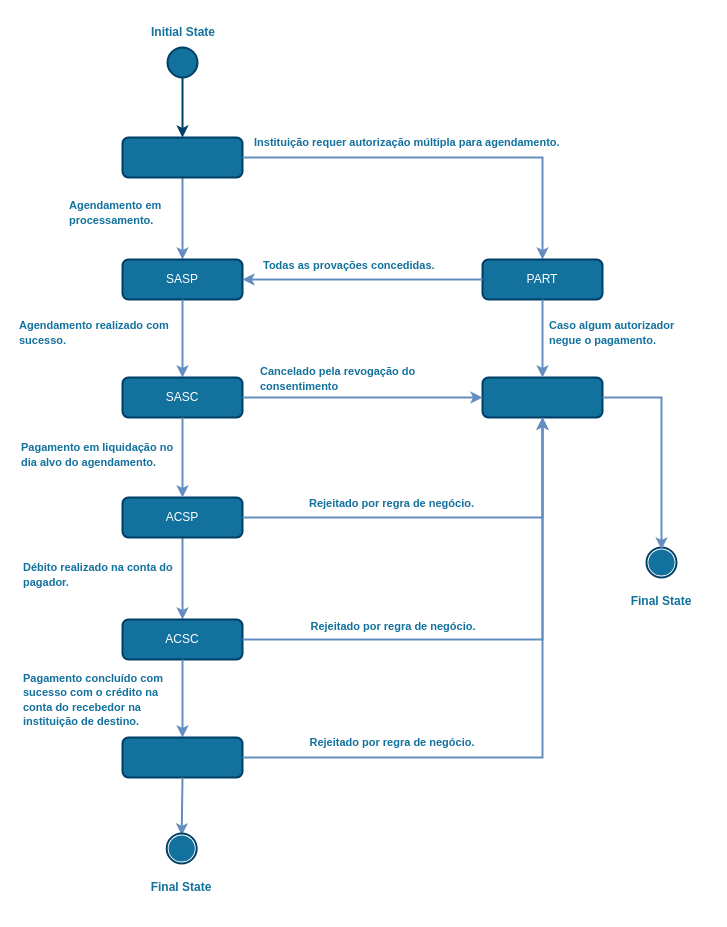
The diagram is 727 pixels wide and 927 high, and some of its shapes have lost their labels. Each missing label, with the centre of its shape:
"ACCC" goes at point (182, 757).
"PDNG" goes at point (182, 157).
"RJCT" goes at point (542, 397).
